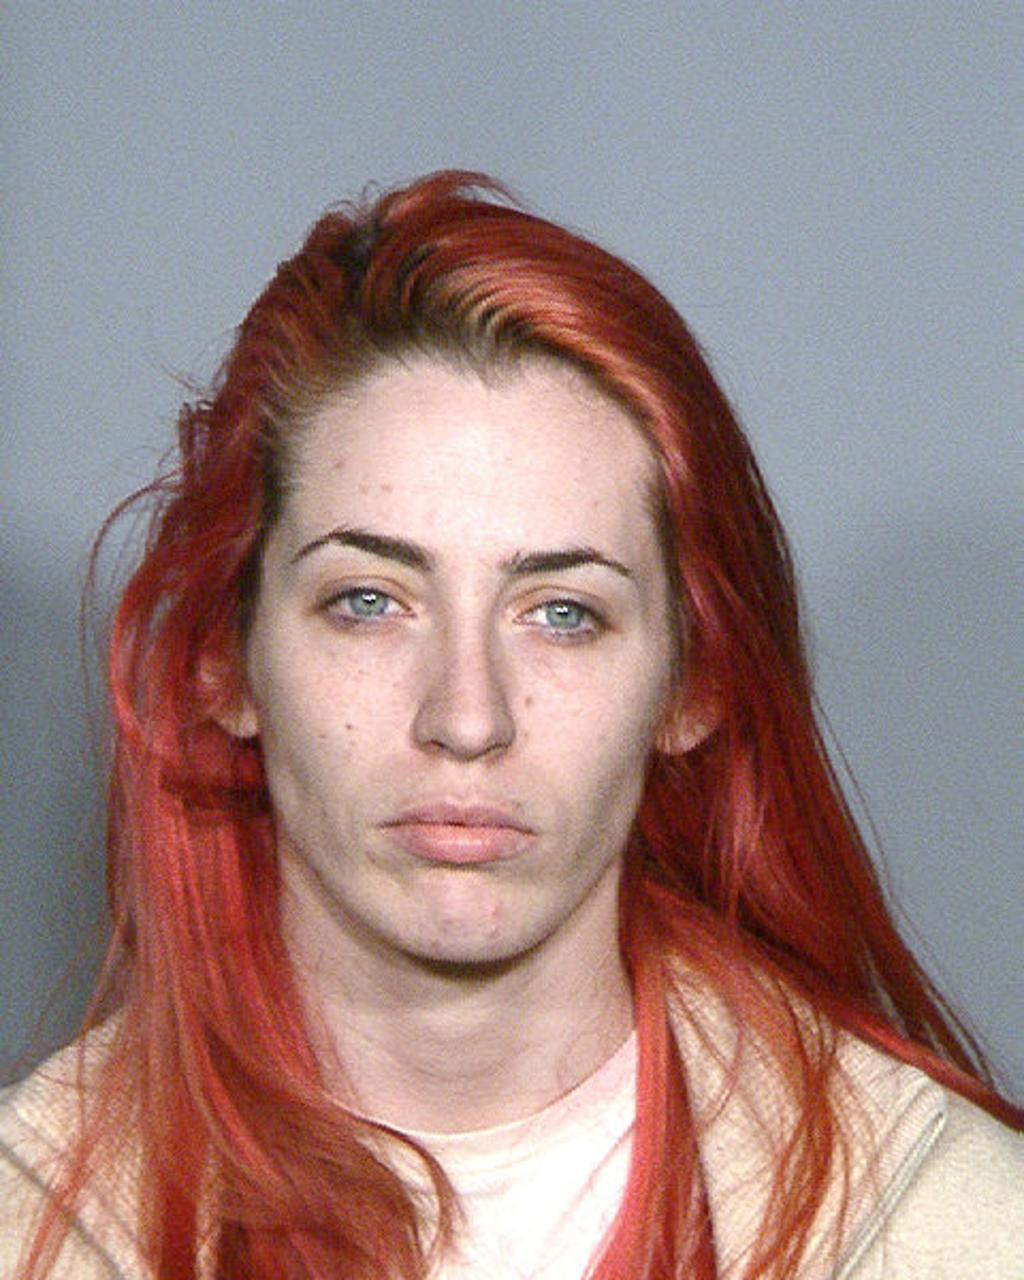face: (251, 336, 678, 960)
